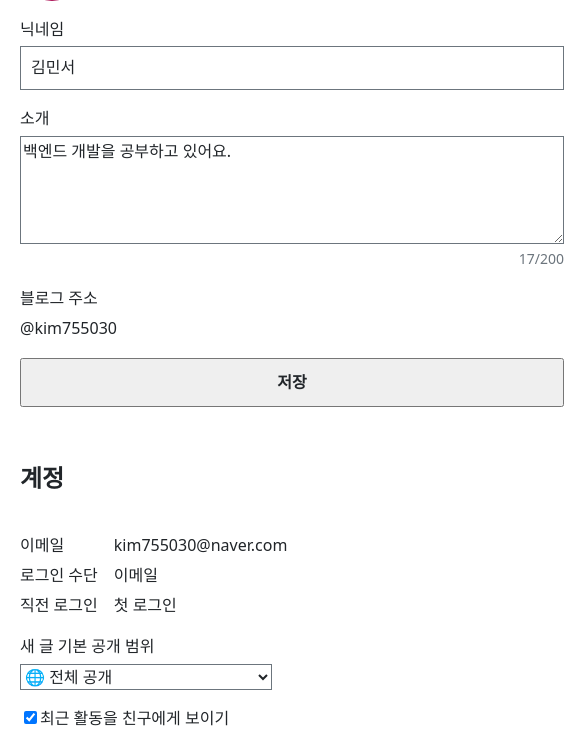
Scenario: SettingsPage (FR-046~053) › 바꾼 칸이 없으면 보내지 않는다
(page scrolled)
expect the field labelled "닉네임" is shown: met, box [20, 46, 564, 90]
Click the button "저장" at point(292, 382), box [20, 358, 564, 407]
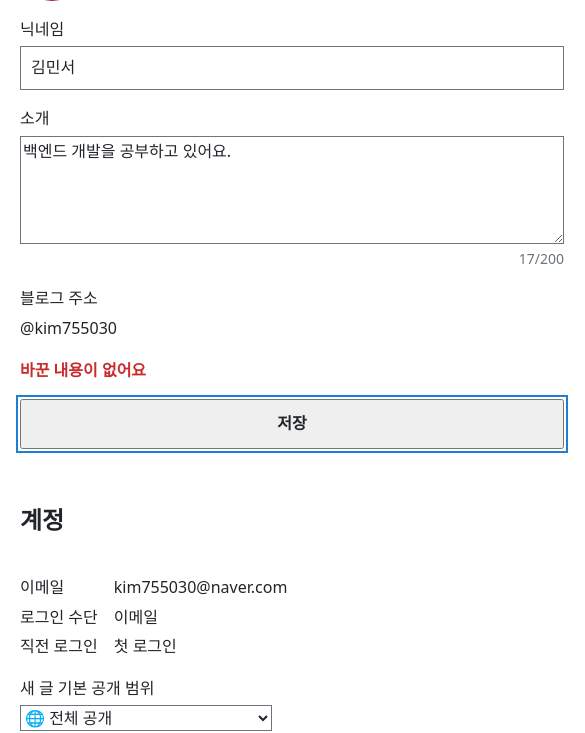
expect the text "바꾼 내용이 없어요" is shown: met, box [20, 359, 146, 381]
